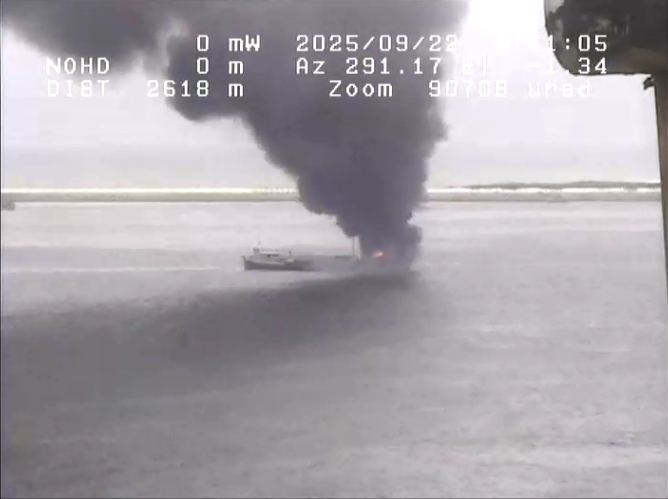FIRE_ONBOARD: (161, 13, 463, 307)
FISHING_VESSEL: (233, 221, 433, 288)
